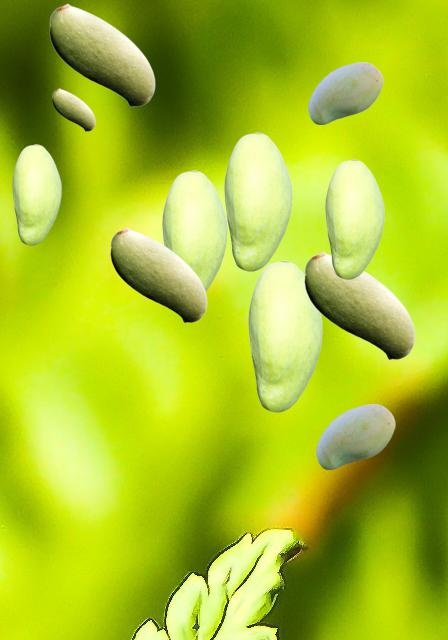green_mango: (304, 251, 414, 359), (248, 260, 321, 411), (49, 3, 154, 106), (224, 132, 291, 270), (110, 227, 206, 322), (162, 170, 226, 291), (325, 159, 383, 278), (316, 404, 394, 468), (12, 144, 60, 244), (308, 62, 382, 123), (52, 88, 94, 130)
